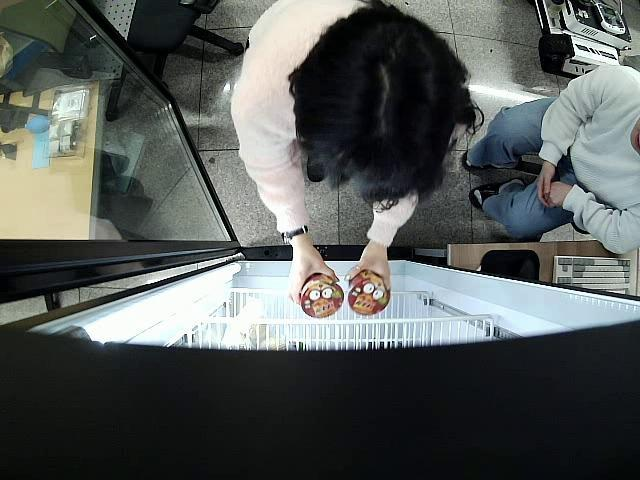06_nuguri_S: (298, 272, 344, 319), (348, 270, 391, 316)
